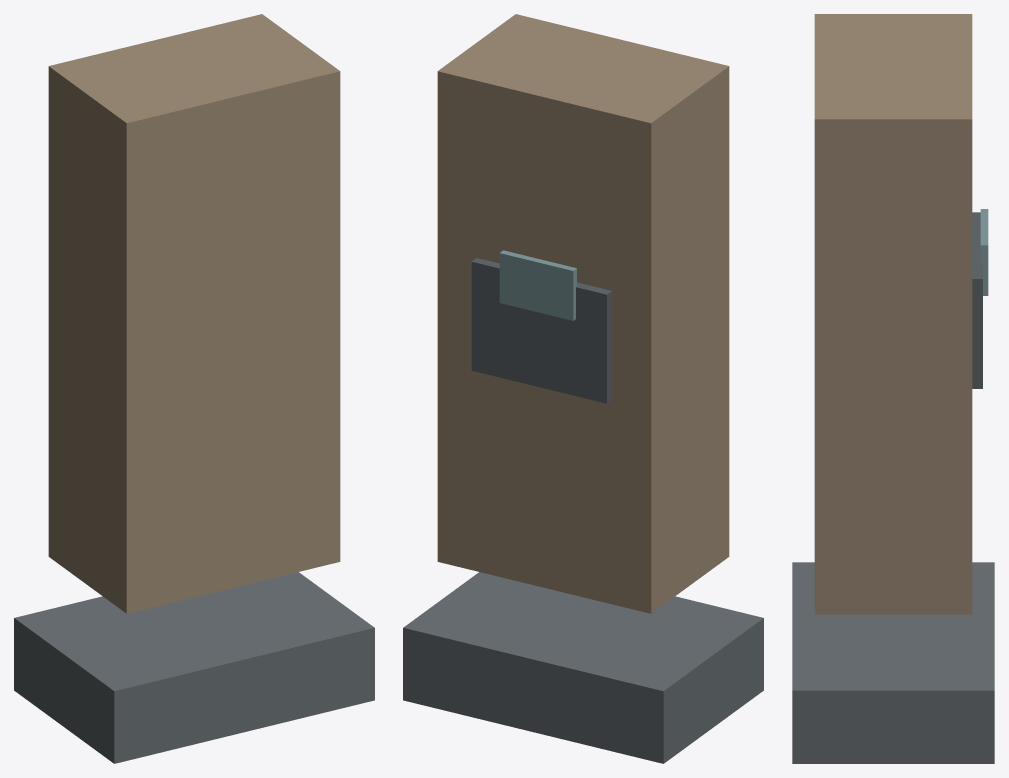
Rendered from iz3_military_floodlight_02.glb.
3 views of the same model, side by side, from view 1: azimuth 30°, elevation 25°; view 2: azimuth 150°, elevation 25°; view 3: azimuth 270°, elevation 25° (orthographic).
Visible parts, largest first — view 1: cabinet, base; view 2: cabinet, base, panel, display; view 3: cabinet, base, panel, display.
Boxes of the visible parts, x1,y1,x2,y2 form: cabinet: (48,14,340,613); base: (14,572,374,763); cabinet: (437,14,729,613); base: (403,572,763,763); panel: (471,258,611,403); display: (499,250,576,320); cabinet: (814,14,972,614); base: (792,562,994,763); panel: (972,212,982,388); display: (980,209,988,295).
Bounding box in the file's own units: 1.2 × 2.76 × 0.8.
